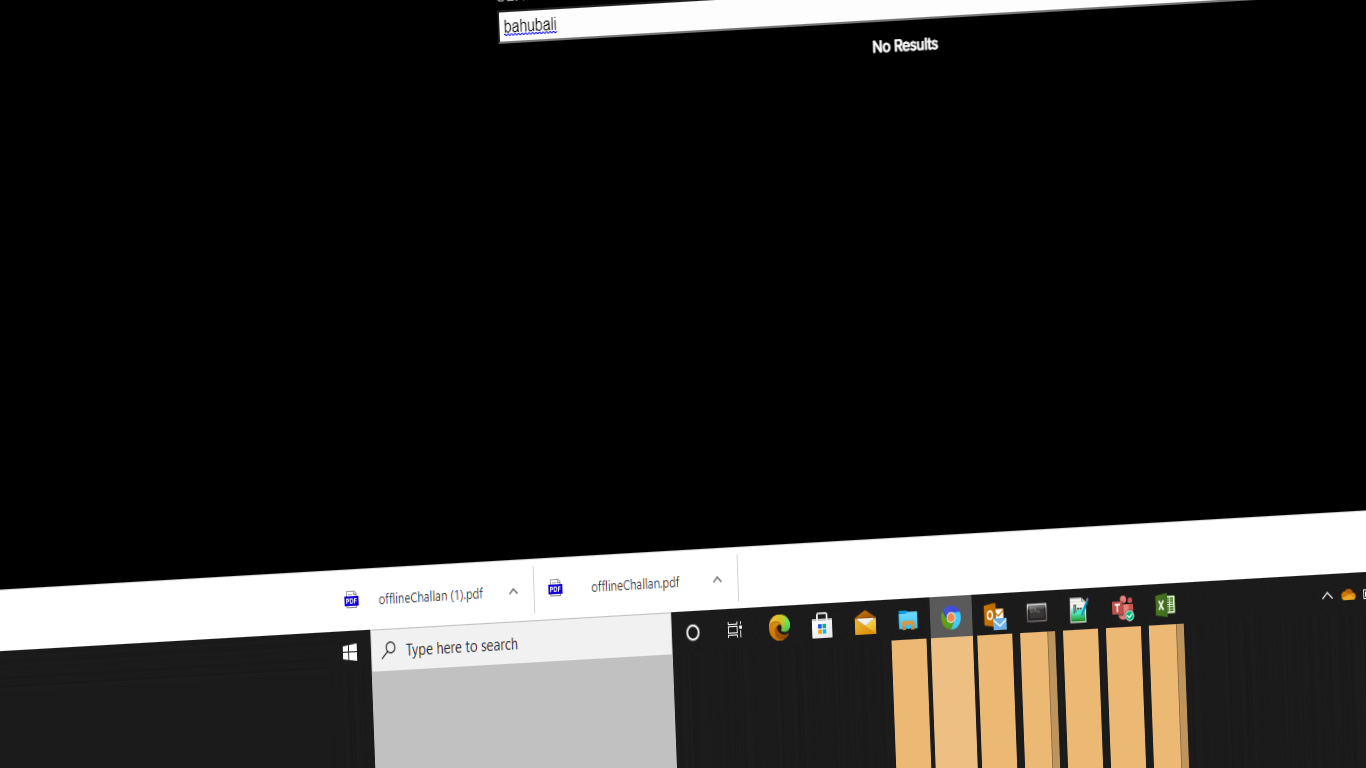noresultsfound: (838, 22, 978, 66)
searchtextbox: (488, 1, 1153, 40)
